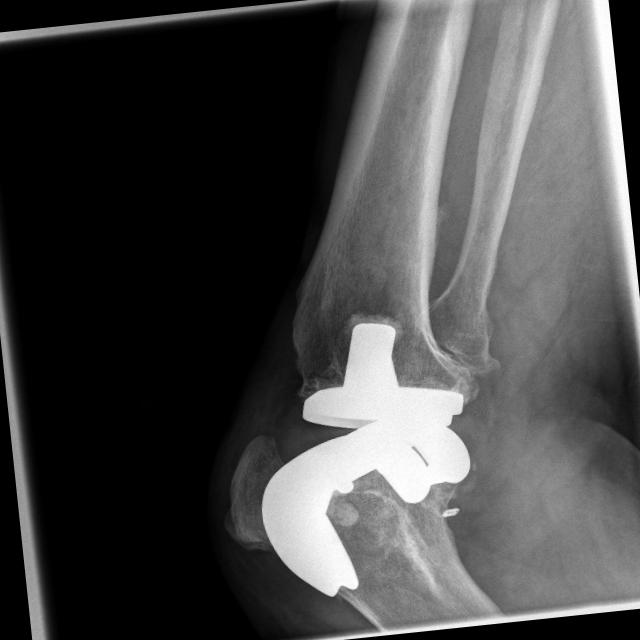Knee: (205, 316, 496, 564)
